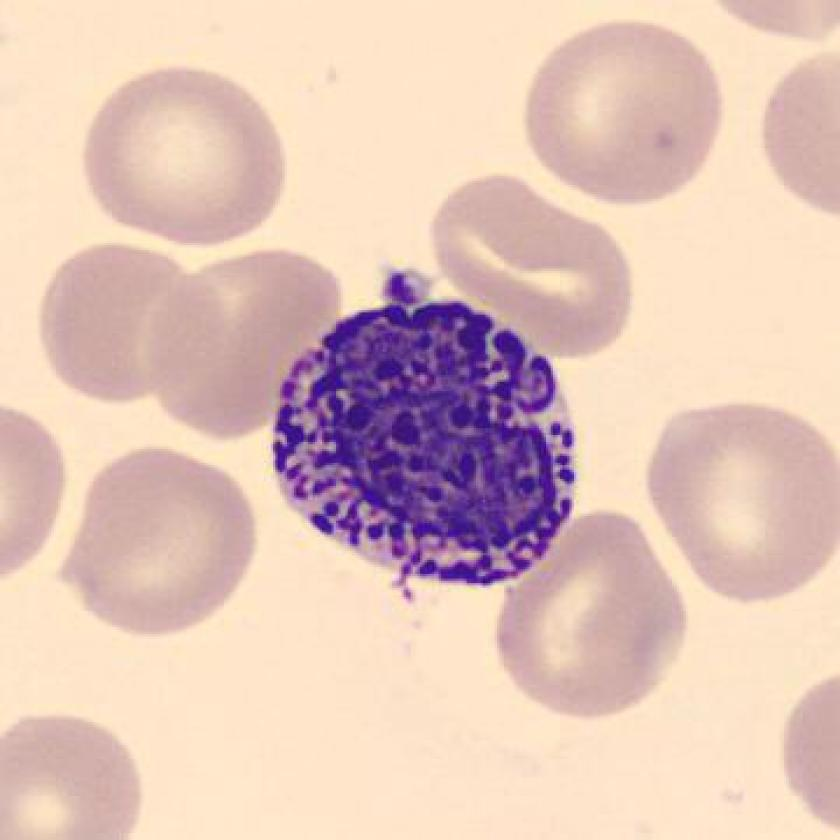basophil: (270, 291, 592, 601)
